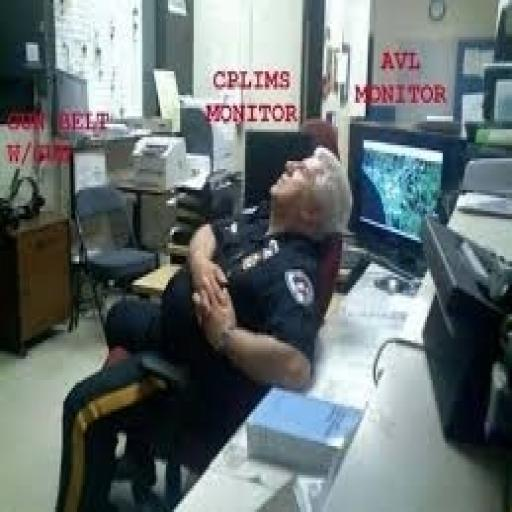sleeping: (53, 140, 356, 509)
